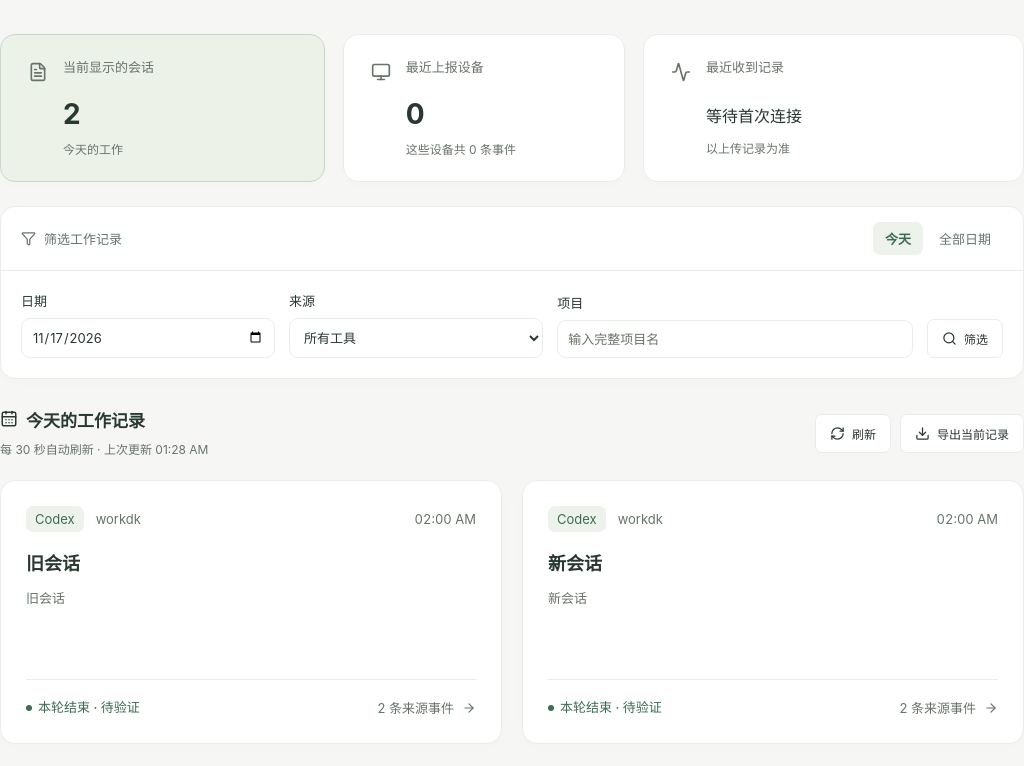
Test case: 关闭详情再打开其他会话，不显示迟到的上一会话来源
(page scrolled)
Click the button "Codex workdk 02:00 AM 旧会话 旧会话 本轮结束 · 待验证 2 条来源事件": (55, 519) top-left (0, 480), bottom-right (502, 744)
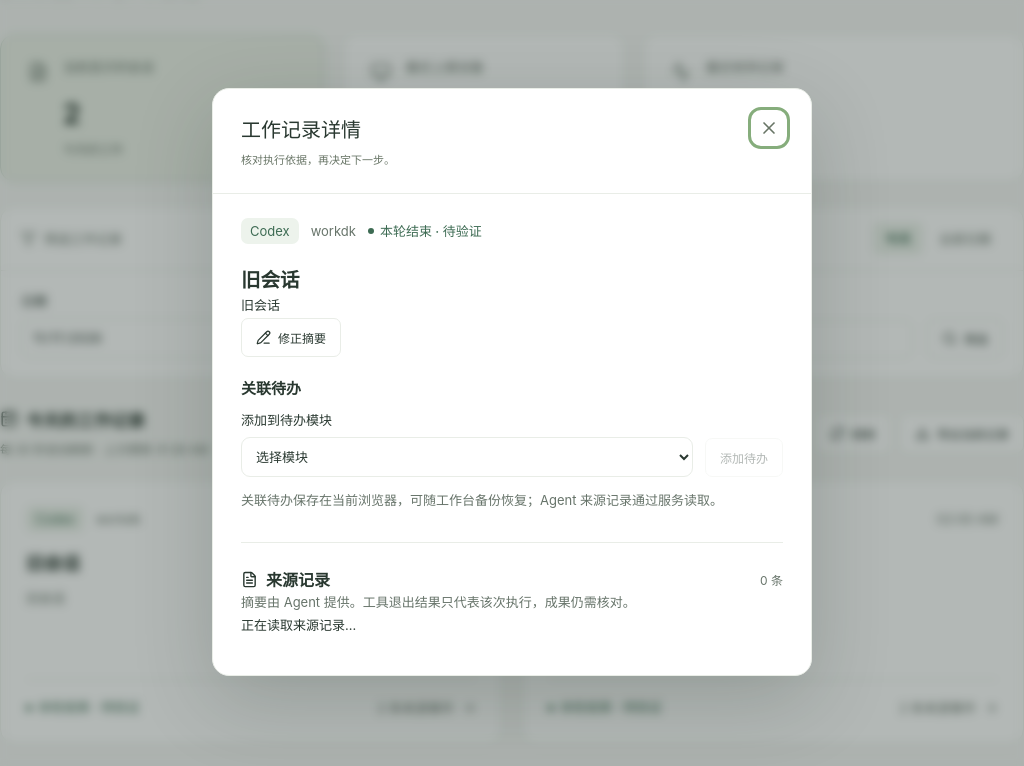
Click the button named "关闭弹窗": (769, 128) top-left (755, 114), bottom-right (783, 142)
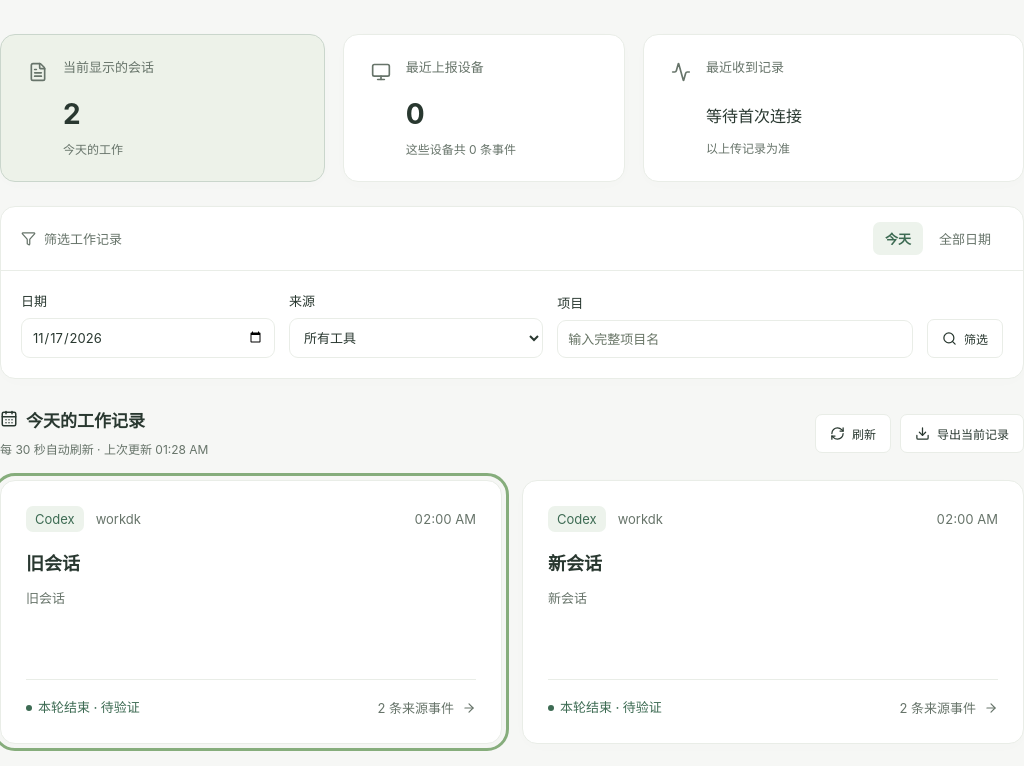
Click the button "Codex workdk 02:00 AM 新会话 新会话 本轮结束 · 待验证 2 条来源事件": (577, 519) top-left (522, 480), bottom-right (1023, 744)
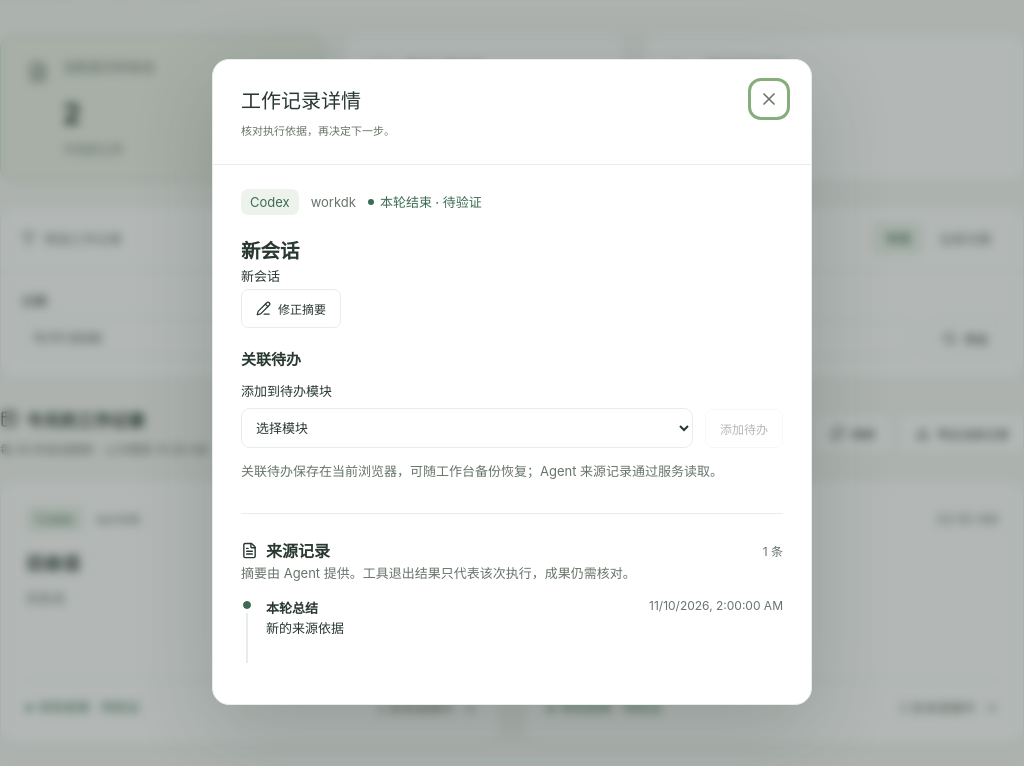
Expected: the dialog shows "新的来源依据", top-left (266, 620), bottom-right (344, 636)
